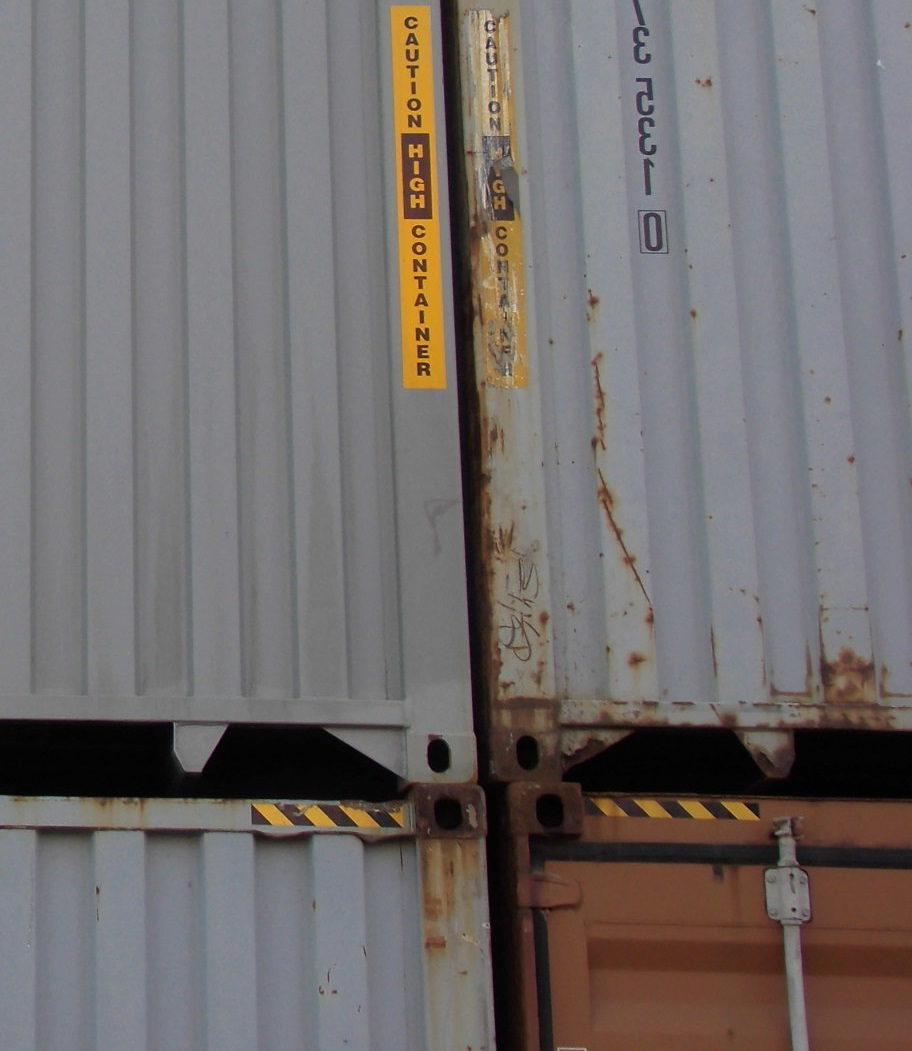container_no_door: (1, 4, 479, 780), (493, 1, 912, 779)
